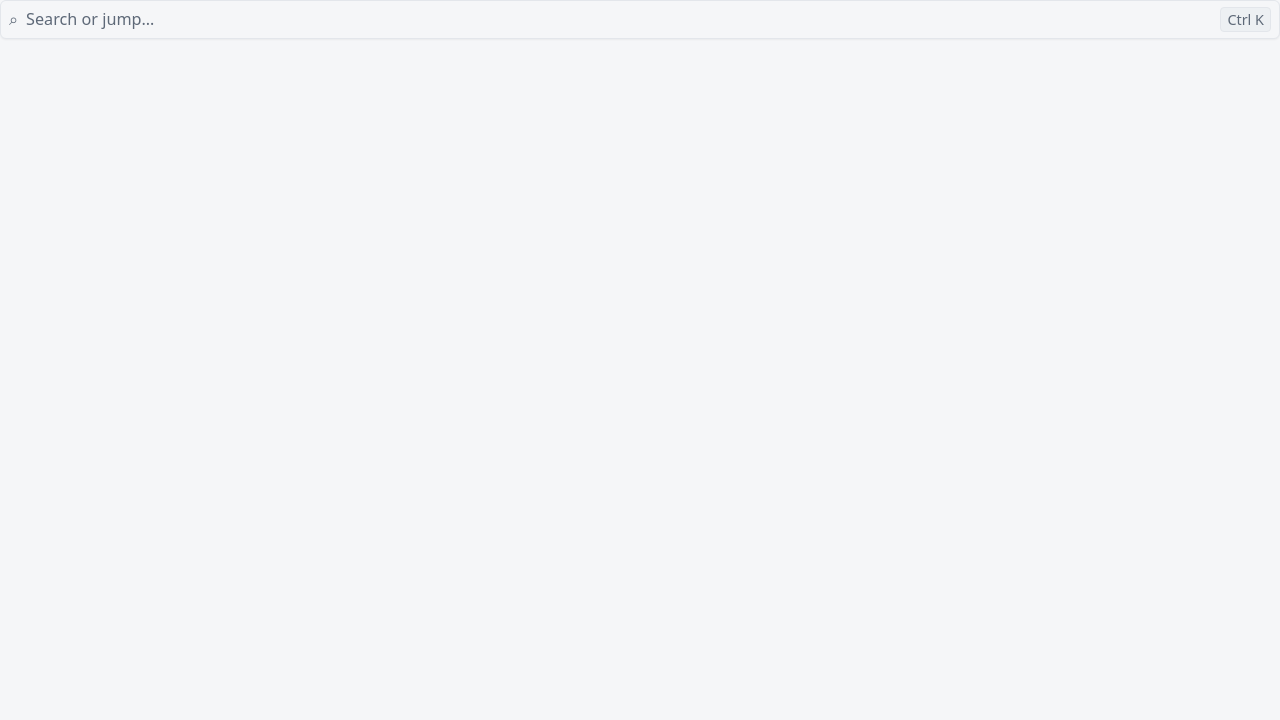
Test case: the command palette › finds nothing when a Site Admin searches for a workspace page
Press k
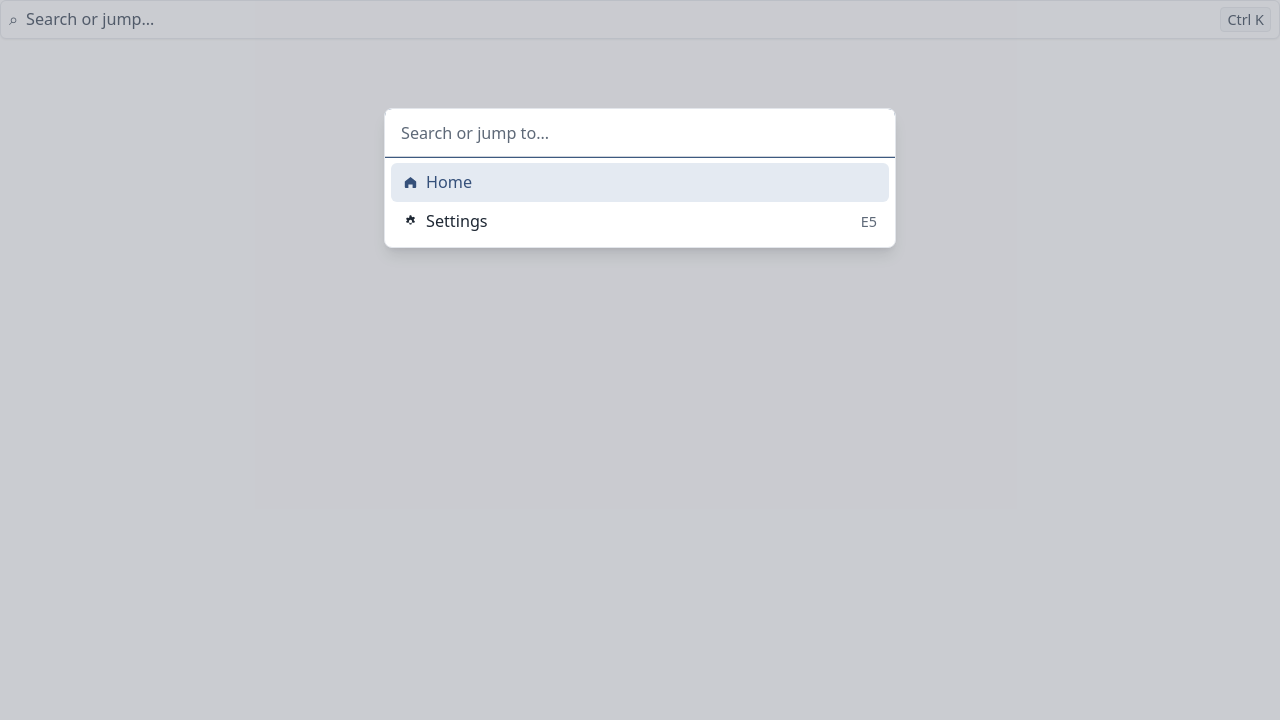
In the field labelled "Search or jump to": [640, 133] box [385,109,895,157], type "board"
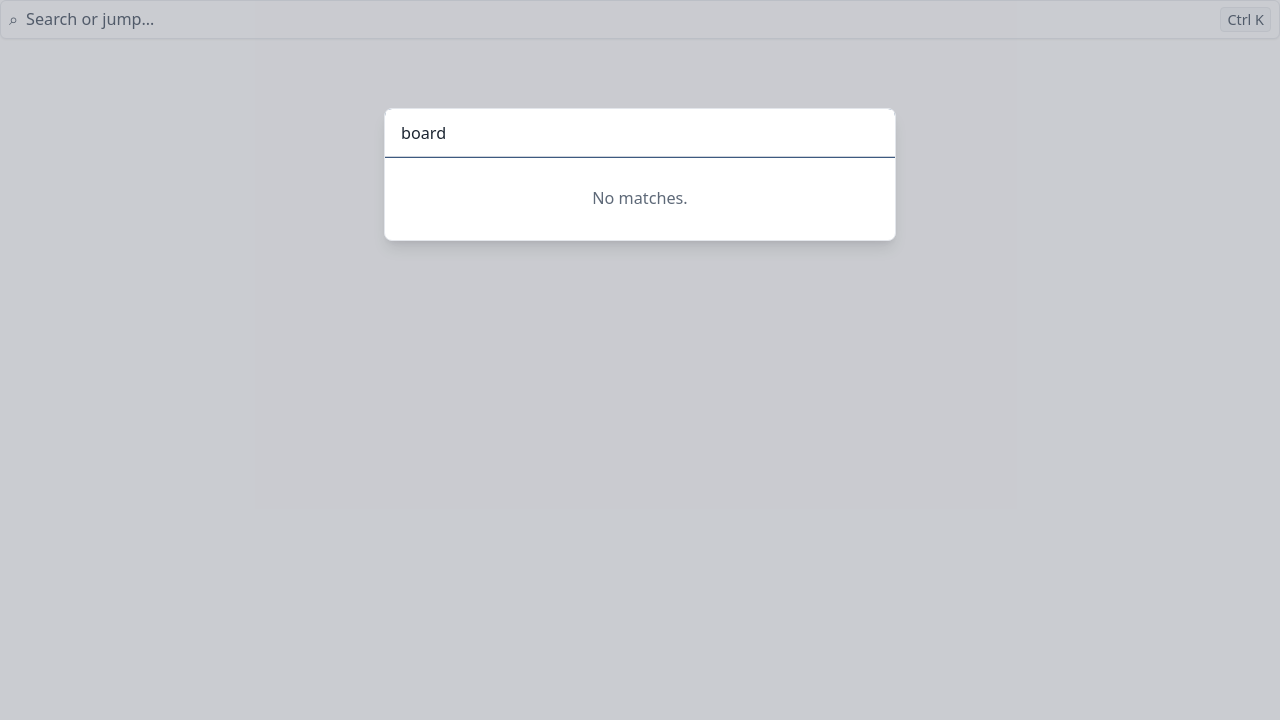
Now the list item "No matches." is shown, box [592,187,688,209]
